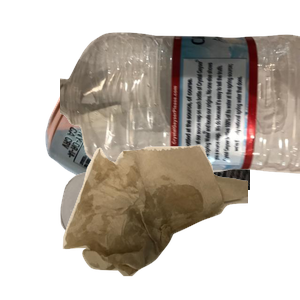glass: (58, 170, 202, 300)
metal: (43, 58, 283, 238)
plastic: (60, 30, 300, 196)
trash: (60, 142, 300, 300)
